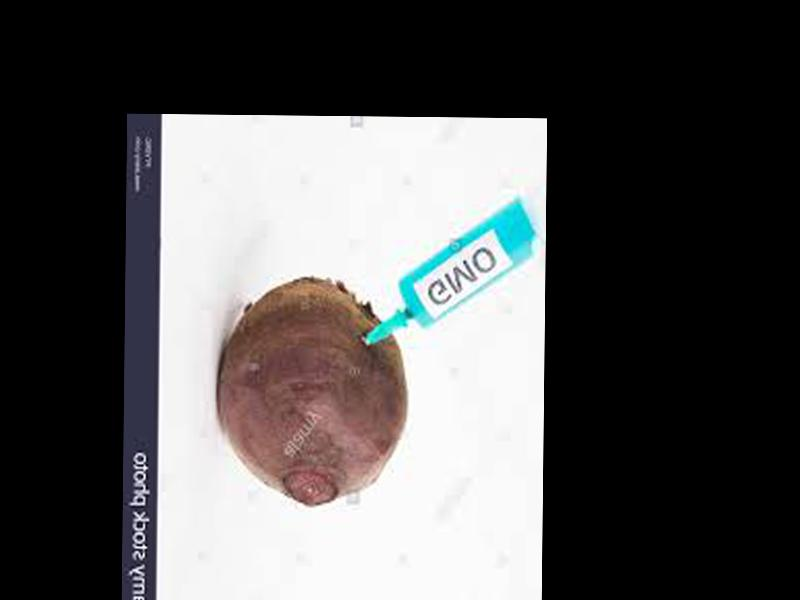Beet: (214, 280, 409, 505)
